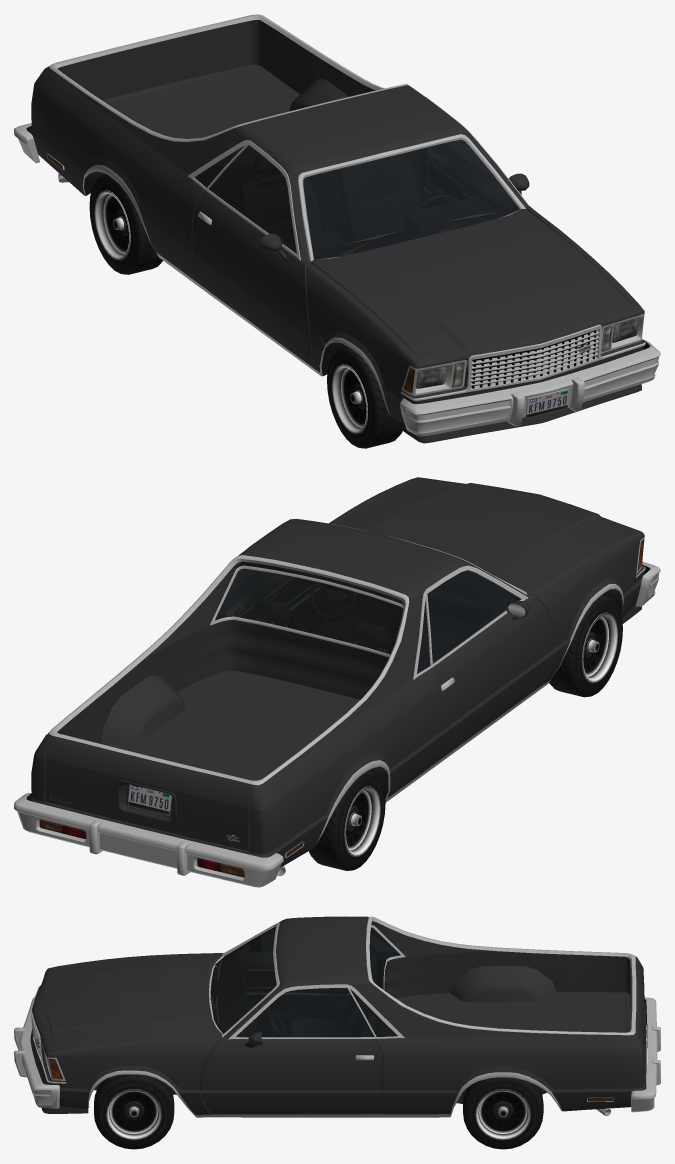
The model's file is el-alamo-78-low-poly-model-41b3a5.glb.
3 renders of one model, top to bottom at view 1: azimuth 30°, elevation 25°; view 2: azimuth 150°, elevation 25°; view 3: azimuth 270°, elevation 25°, orthographic. The views are drawn at different scales.
Visible parts, largest first — view 1: body, wheel-front-right, wheel-back-right; view 2: body, wheel-back-right, wheel-front-right; view 3: body, wheel-front-left, wheel-back-left.
Part boxes in pixels (x1,y1,x2,y2): body: [14, 14, 660, 443]; wheel-front-right: [327, 346, 402, 448]; wheel-back-right: [89, 174, 162, 274]; body: [14, 477, 660, 887]; wheel-back-right: [197, 770, 385, 871]; wheel-front-right: [549, 595, 622, 697]; body: [14, 916, 660, 1117]; wheel-front-left: [94, 1074, 174, 1149]; wheel-back-left: [463, 1077, 543, 1149].
Bounding box in the file's own units: 1.91 × 1.38 × 5.13.
Materials: 9 (8 with a texture image).
